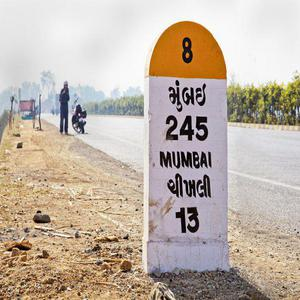kmstone: (142, 16, 232, 277)
